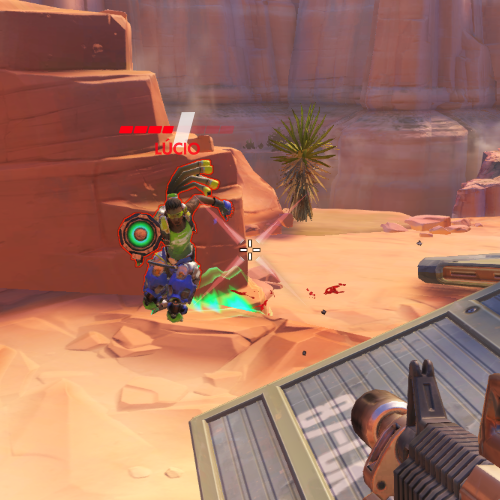hpbar: (118, 125, 235, 134)
